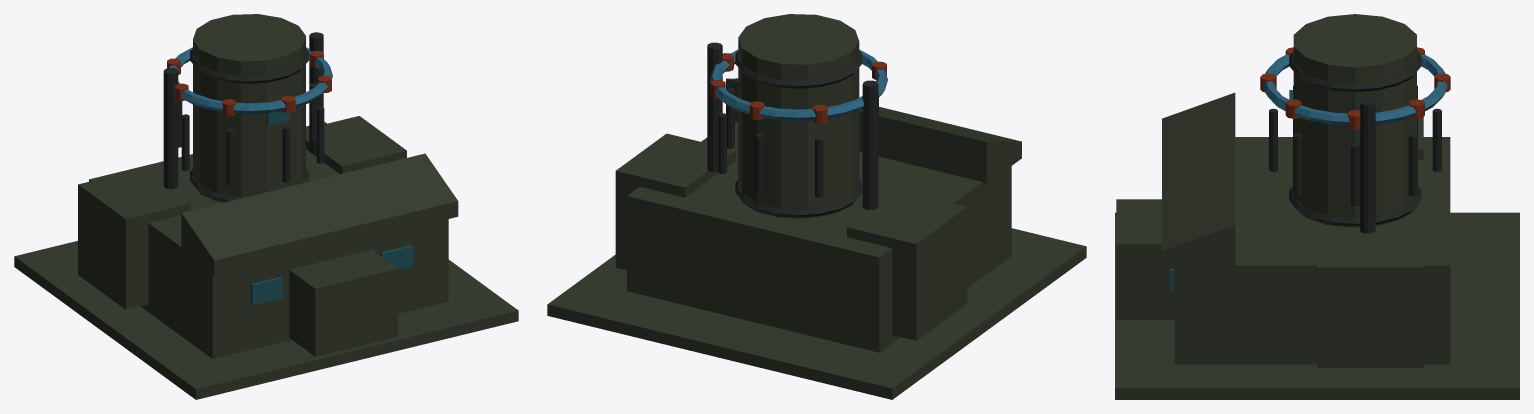
Rendered from Bastion_TechCenter_Static.glb.
The picture shows the model from 3 angles, left to right: view 1: azimuth 30°, elevation 25°; view 2: azimuth 150°, elevation 25°; view 3: azimuth 270°, elevation 25°; orthographic projection. The views are drawn at different scales.
Visible parts, largest first — view 1: world; view 2: world; view 3: world.
Boxes of the visible parts, x1=… form: world: x1=14, y1=14, x2=518, y2=399; world: x1=547, y1=14, x2=1086, y2=399; world: x1=1115, y1=14, x2=1519, y2=399.
Size of the model in its own units: 8.2 by 5.93 by 8.
Materials: 1 (1 with a texture image).
